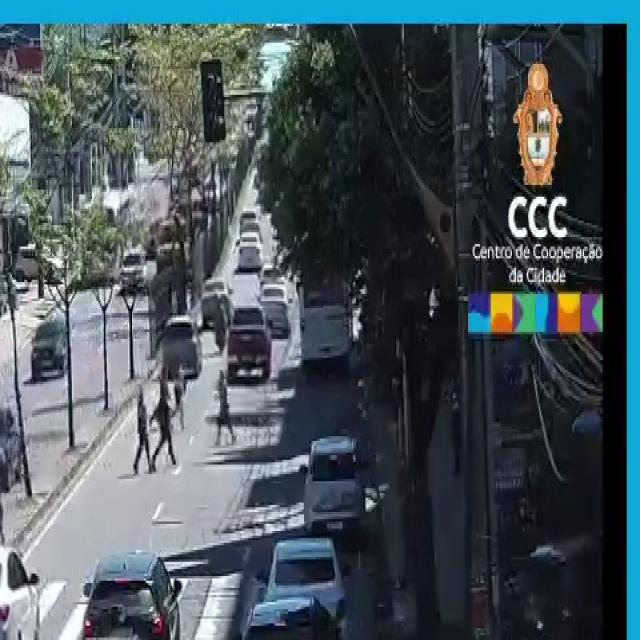car: (302, 434, 367, 550), (232, 597, 344, 640), (0, 543, 45, 640), (30, 317, 71, 379), (0, 403, 23, 491), (40, 637, 174, 640)
people: (151, 392, 181, 474), (130, 386, 156, 480), (213, 370, 240, 450), (171, 366, 189, 432)
